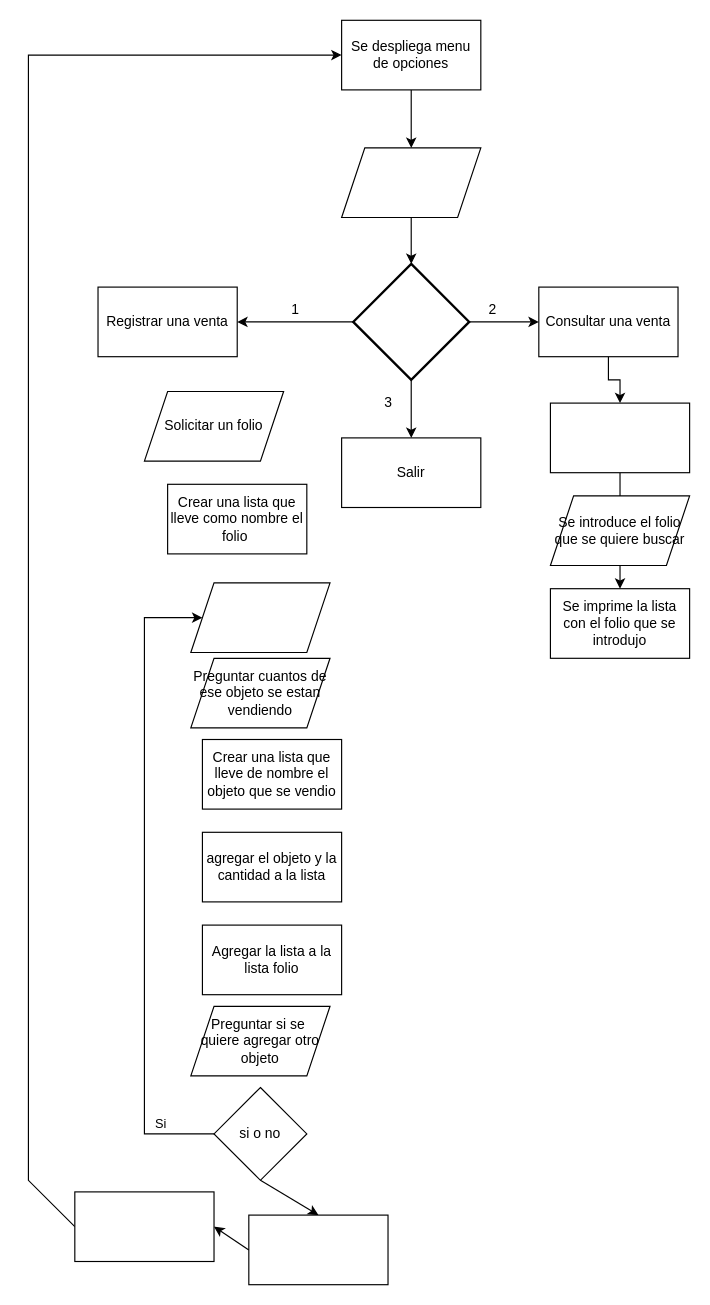
This 710x1305 diagram has some shape labels left out. Each missing label, with the centre of its shape:
"Agregar la lista folio a la lista ventas" belongs at (x=144, y=1226).
"Preguntar el precio y crear una lista que contenta el precio y el precio mas iva" belongs at (x=318, y=1249).
"Preguntar que objeto se esta vendiendo" belongs at (x=260, y=617).
"Se introduce opcioon 1,2 o 3" belongs at (x=410, y=182).
"se introdujo 1,2 o 3" belongs at (x=410, y=321).
"Solicitar un numero de folio" belongs at (x=619, y=437).
